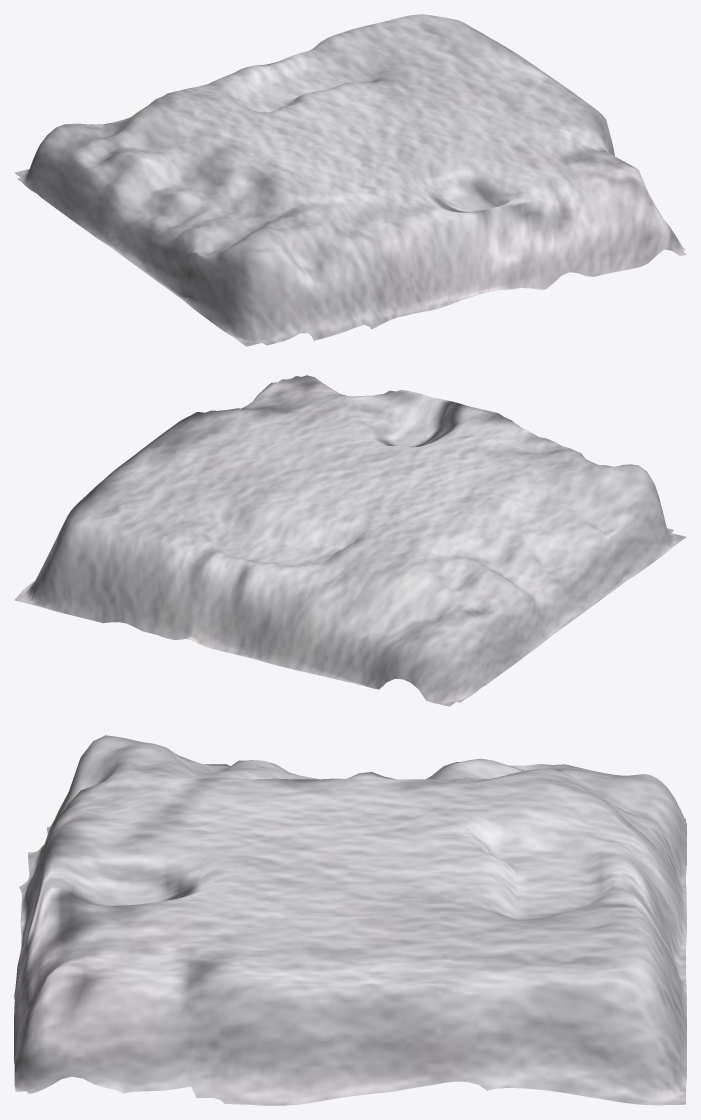
Rendered from snow2.dae.
3 views of the same model, one above another, from view 1: azimuth 30°, elevation 25°; view 2: azimuth 150°, elevation 25°; view 3: azimuth 270°, elevation 25° (orthographic). The views are drawn at different scales.
Visible parts, largest first — view 1: snow2_snow; view 2: snow2_snow; view 3: snow2_snow.
Part boxes in pixels (left/top/right/bottom): snow2_snow: left=14, top=14, right=686, bottom=346; snow2_snow: left=14, top=375, right=686, bottom=706; snow2_snow: left=14, top=735, right=686, bottom=1105.
Bounding box in the file's own units: 60.82 × 59.2 × 10.55.
1 material, 1 textured.
